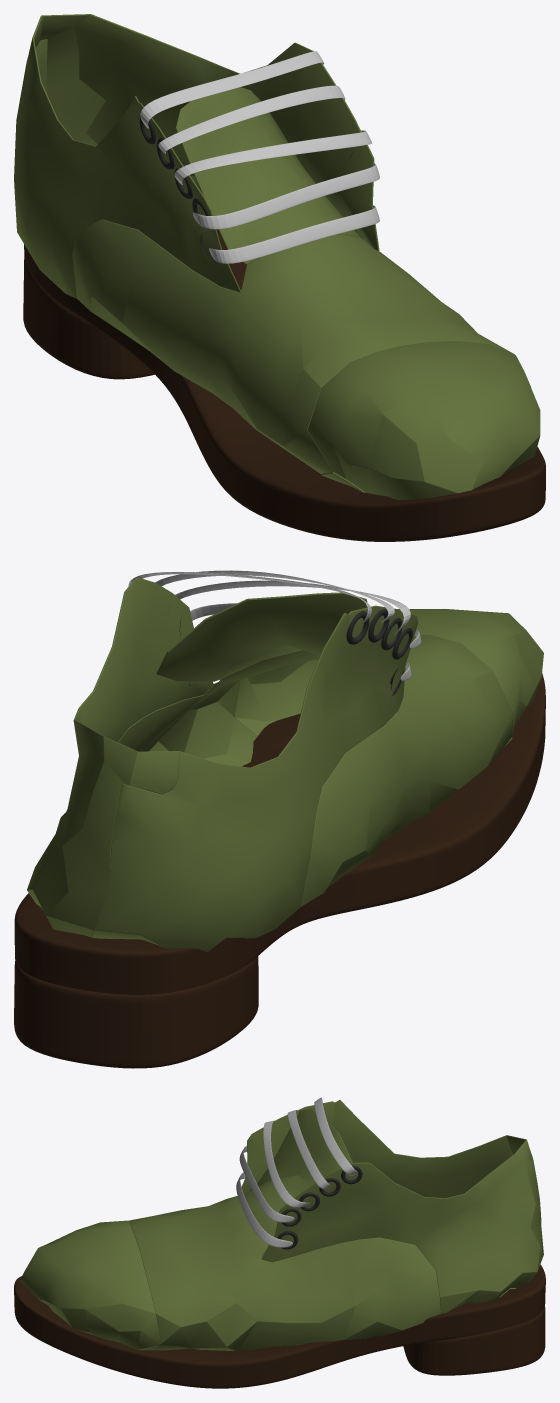
Rendered from za1pri2izquierda.fbx.
3 renders of one model, top to bottom at view 1: azimuth 30°, elevation 25°; view 2: azimuth 150°, elevation 25°; view 3: azimuth 270°, elevation 25°, orthographic. The views are drawn at different scales.
Visible parts, largest first — view 1: ZAPATO1_3, Plane, Plane.002, Plane.004, Plane.005, Plane.001, Plane.003; view 2: ZAPATO1_3, Plane, Plane.001, Plane.003, Plane.004; view 3: ZAPATO1_3, Plane, Plane.001, Plane.004, Plane.003, Plane.005, Plane.002.
Boxes of the visible parts, left/top/right/bottom form: ZAPATO1_3: left=14, top=14, right=540, bottom=500; Plane: left=23, top=229, right=545, bottom=541; Plane.002: left=193, top=163, right=379, bottom=229; Plane.004: left=140, top=51, right=324, bottom=128; Plane.005: left=209, top=205, right=379, bottom=263; Plane.001: left=174, top=130, right=371, bottom=184; Plane.003: left=158, top=85, right=345, bottom=153; ZAPATO1_3: left=27, top=577, right=543, bottom=952; Plane: left=14, top=673, right=545, bottom=1068; Plane.001: left=175, top=580, right=410, bottom=634; Plane.003: left=155, top=570, right=394, bottom=622; Plane.004: left=128, top=572, right=371, bottom=624; ZAPATO1_3: left=20, top=1100, right=543, bottom=1350; Plane: left=14, top=1264, right=545, bottom=1388; Plane.001: left=263, top=1120, right=309, bottom=1207; Plane.004: left=314, top=1097, right=356, bottom=1175; Plane.003: left=287, top=1110, right=329, bottom=1189; Plane.005: left=236, top=1172, right=292, bottom=1247; Plane.002: left=239, top=1145, right=294, bottom=1222.
Size of the model in its own units: 174 by 204 by 447.
